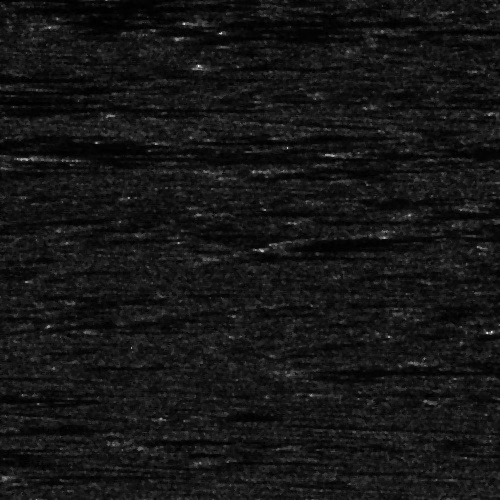object: (284, 226, 367, 249), (300, 148, 373, 157), (19, 152, 102, 159), (299, 361, 330, 378), (257, 166, 330, 173), (170, 15, 233, 22), (381, 24, 444, 31), (0, 143, 29, 156), (186, 208, 249, 213), (154, 137, 195, 140), (224, 250, 255, 253), (369, 102, 390, 105), (0, 5, 5, 10), (0, 100, 1, 107)
shadow: (0, 134, 311, 153), (0, 143, 419, 156), (325, 226, 500, 249), (314, 361, 500, 378), (61, 152, 411, 159), (0, 385, 95, 408), (336, 148, 500, 157), (201, 15, 407, 22), (0, 70, 105, 79), (0, 5, 175, 10), (294, 166, 402, 173), (413, 24, 500, 31), (218, 208, 324, 213), (175, 137, 330, 140), (380, 102, 500, 105), (240, 250, 345, 253), (0, 100, 44, 107), (0, 129, 39, 134), (0, 374, 35, 377)
